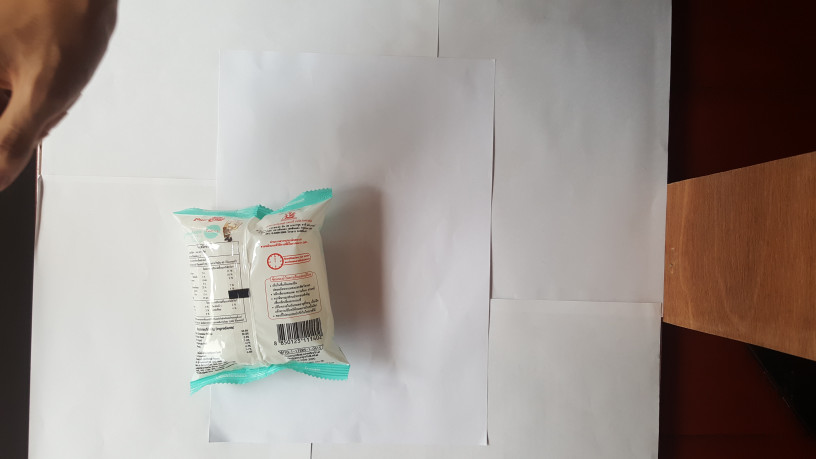farmhouse-sweetsandwich-chocolate: (174, 187, 354, 393)
